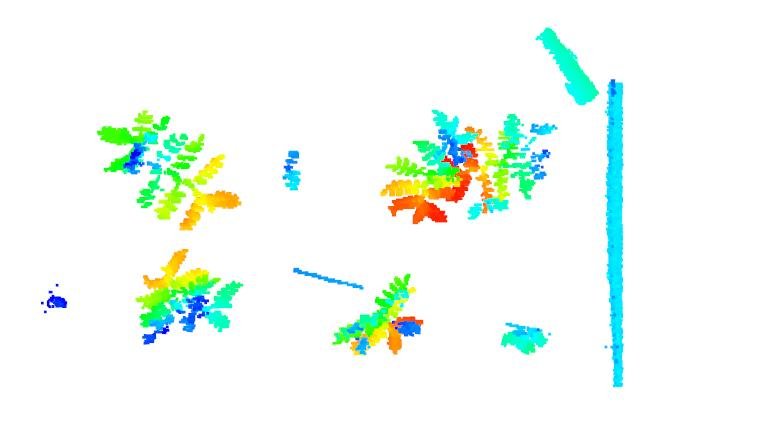chickpea: (96, 109, 242, 233), (441, 112, 560, 218), (379, 105, 478, 224), (136, 248, 245, 343), (330, 274, 424, 358), (497, 322, 553, 357), (277, 149, 303, 193)
